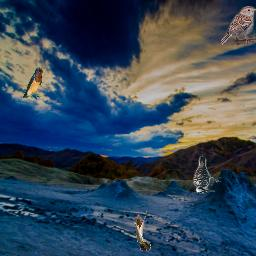Cuckoo: (134, 211, 151, 251)
Sparrow: (221, 6, 256, 46)
Swallow: (22, 67, 43, 99)
Woodpecker: (192, 154, 222, 194)
